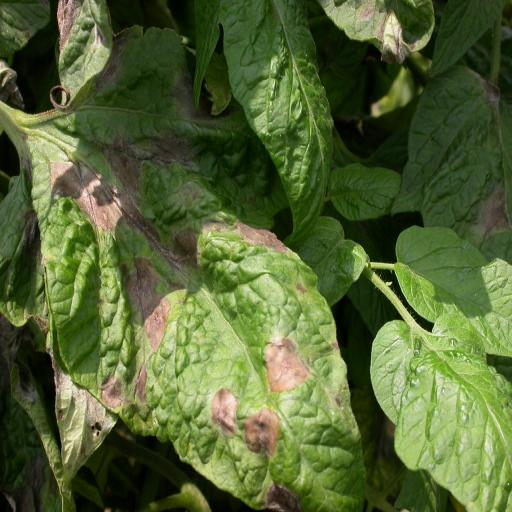Late Blight: (10, 100, 363, 502), (400, 54, 512, 266)
